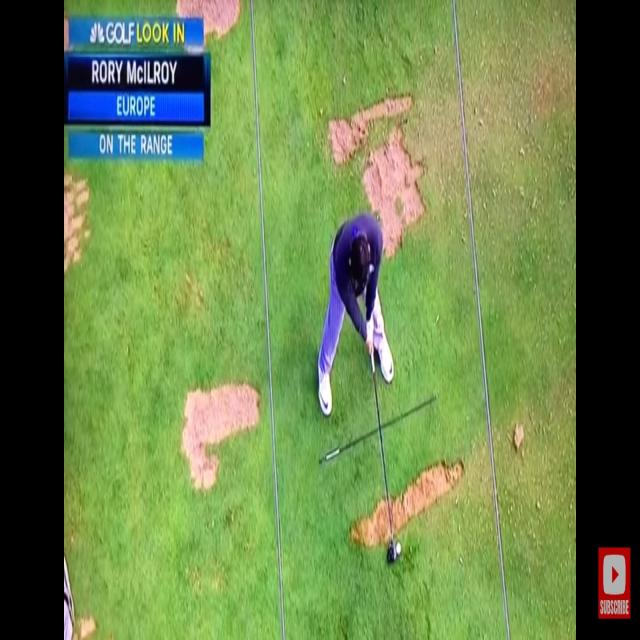humans: (314, 206, 396, 418)
